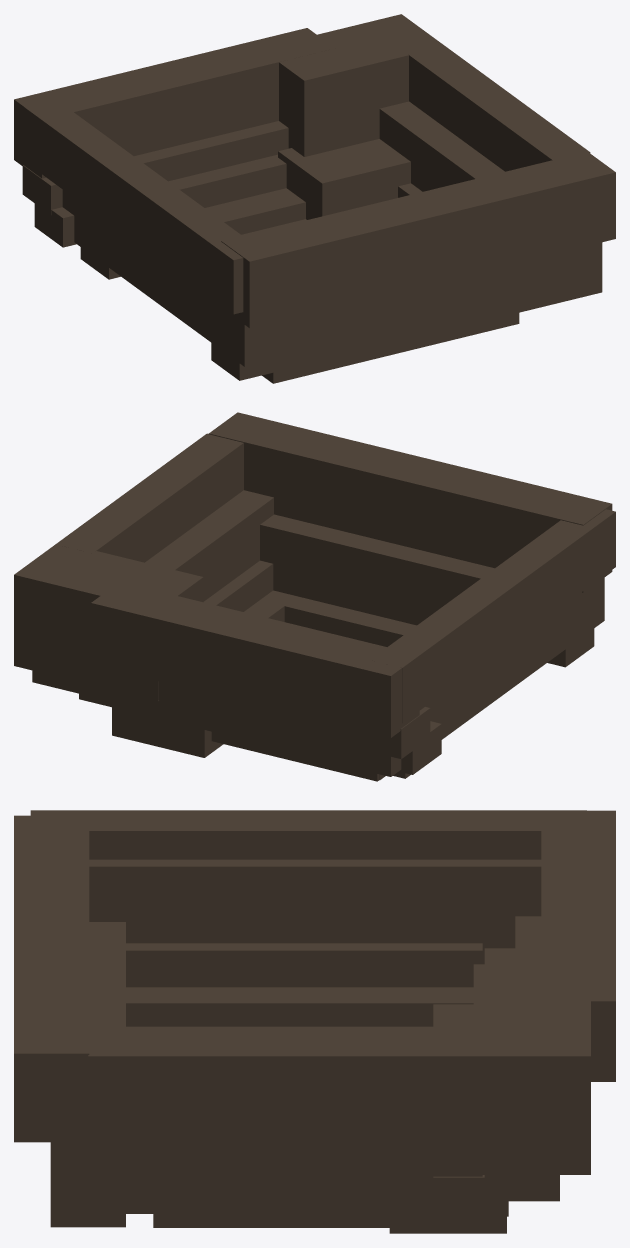
Rendered from water - empty.fbx.
3 views of the same model, one above another, from view 1: azimuth 30°, elevation 25°; view 2: azimuth 150°, elevation 25°; view 3: azimuth 270°, elevation 25° (orthographic). The views are drawn at different scales.
Visible parts, largest first — view 1: polySurface27; view 2: polySurface27; view 3: polySurface27.
Part boxes in pixels (x1,y1,x2,y2): polySurface27: (14, 14, 615, 383); polySurface27: (14, 412, 615, 781); polySurface27: (14, 810, 615, 1233).
Size of the model in its own units: 4.05 by 1.82 by 4.19.
